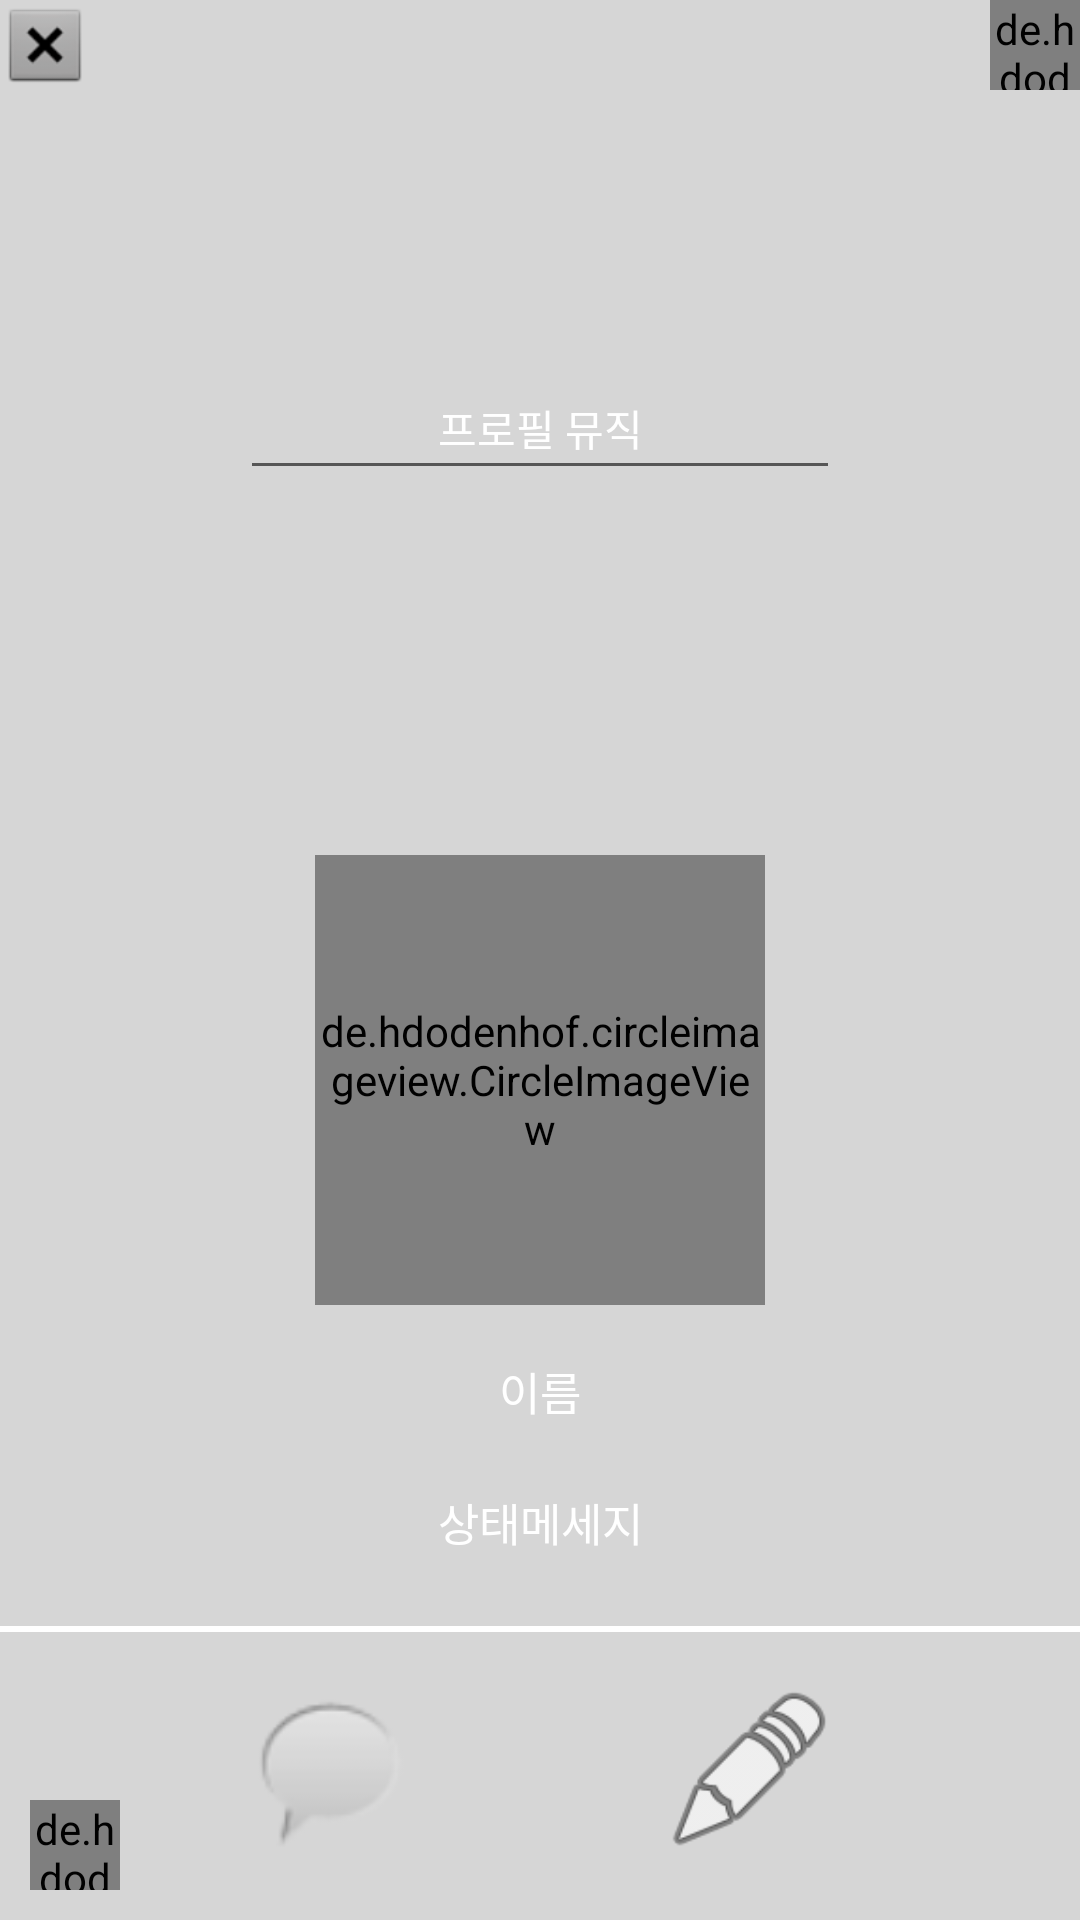

Screen size 1080px×1920px. Icon name, then its box in pixels as (x1, y1, x2, y2):
edit: (673, 1693, 825, 1845)
sym action chat: (262, 1704, 374, 1841)
